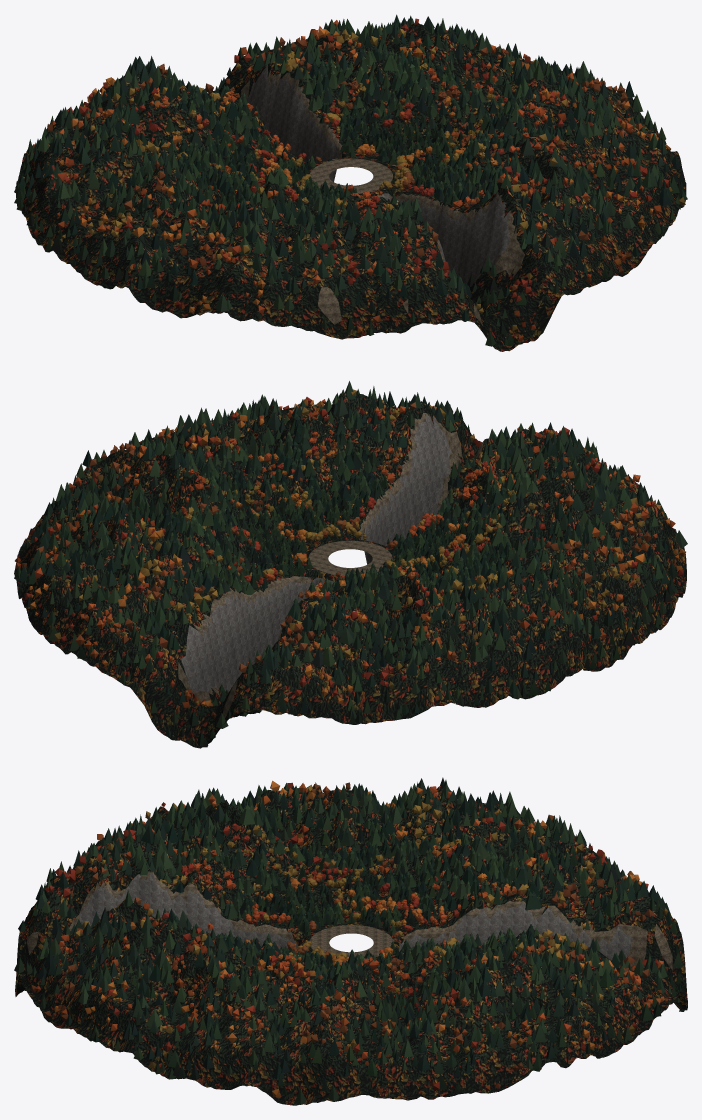
Rendered from backdrop_near_c36_autumn.glb.
The picture shows the model from 3 angles, top to bottom: view 1: azimuth 30°, elevation 25°; view 2: azimuth 150°, elevation 25°; view 3: azimuth 270°, elevation 25°; orthographic projection.
Visible parts, largest first — view 1: near_land_S, trees_land_W_0, trees_land_S_0, trees_land_E_0, near_land_W, trees_land_N_0, near_land_E, near_land_N; view 2: near_land_N, trees_land_N_0, trees_land_W_0, near_land_W, trees_land_E_0, trees_land_S_0, near_land_S, near_land_E; view 3: near_land_E, trees_land_E_0, trees_land_W_0, near_land_S, trees_land_N_0, trees_land_S_0, near_land_N, near_land_W.
Boxes of the visible parts, <box> form: near_land_S: <box>263,134,674,351</box>; trees_land_W_0: <box>14,98,334,314</box>; trees_land_S_0: <box>267,132,664,346</box>; trees_land_E_0: <box>365,18,687,219</box>; near_land_W: <box>16,104,326,321</box>; trees_land_N_0: <box>36,14,434,171</box>; near_land_E: <box>356,23,686,220</box>; near_land_N: <box>27,23,414,181</box>; near_land_N: <box>26,529,437,748</box>; trees_land_N_0: <box>25,520,427,747</box>; trees_land_W_0: <box>369,468,687,705</box>; near_land_W: <box>377,475,686,707</box>; trees_land_E_0: <box>14,394,340,599</box>; trees_land_S_0: <box>275,381,667,551</box>; near_land_S: <box>282,392,647,564</box>; near_land_E: <box>14,405,350,607</box>; near_land_E: <box>114,938,589,1105</box>; trees_land_E_0: <box>115,928,585,1104</box>; trees_land_W_0: <box>131,777,576,929</box>; near_land_S: <box>15,826,322,1050</box>; trees_land_N_0: <box>382,820,686,1054</box>; trees_land_S_0: <box>14,814,317,1042</box>; near_land_N: <box>376,828,687,1058</box>; near_land_W: <box>144,786,560,930</box>.
Bounding box in the file's own units: 579 × 174 × 577.
Materials: 4 (3 with a texture image).
